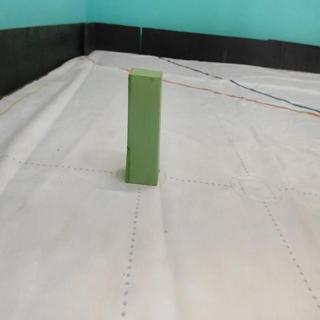greenbox: (124, 65, 165, 187)
